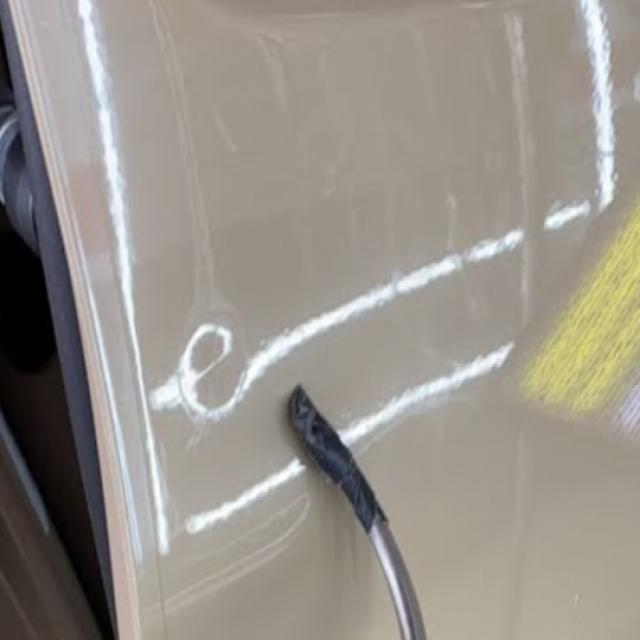dents: (182, 323, 248, 418)
